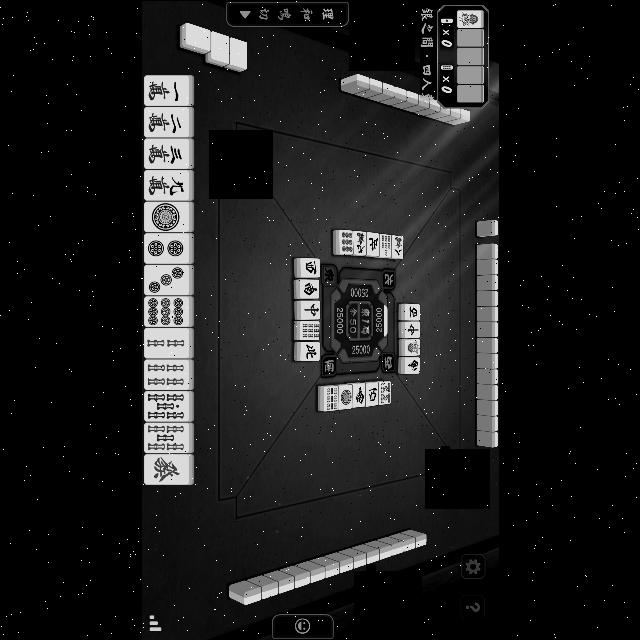1m: (144, 76, 188, 104)
1p: (143, 202, 189, 232), (338, 383, 354, 411)
1s: (178, 22, 210, 52), (227, 38, 247, 72), (208, 34, 228, 66), (456, 10, 484, 28), (397, 338, 421, 356)
2m: (144, 107, 190, 139)
2p: (142, 233, 190, 264)
2s: (144, 329, 190, 359)
3m: (143, 138, 190, 168)
3p: (142, 266, 190, 298)
4s: (144, 360, 190, 390)
5s: (143, 422, 189, 453), (143, 392, 190, 422)
8m: (378, 230, 392, 260), (392, 236, 404, 260)
8s: (379, 379, 391, 405)
9m: (144, 170, 190, 200), (354, 230, 366, 258)
9p: (142, 295, 188, 327), (336, 228, 354, 256)
9s: (318, 383, 337, 412), (300, 324, 322, 341)
chun: (300, 300, 320, 320), (399, 321, 421, 339)
hatsu: (144, 452, 190, 484)
nan: (396, 356, 422, 376), (352, 379, 366, 408), (300, 280, 320, 298)
pe: (300, 342, 320, 362), (366, 232, 378, 258)
sha: (400, 302, 420, 322), (366, 381, 380, 407), (300, 260, 320, 276)
